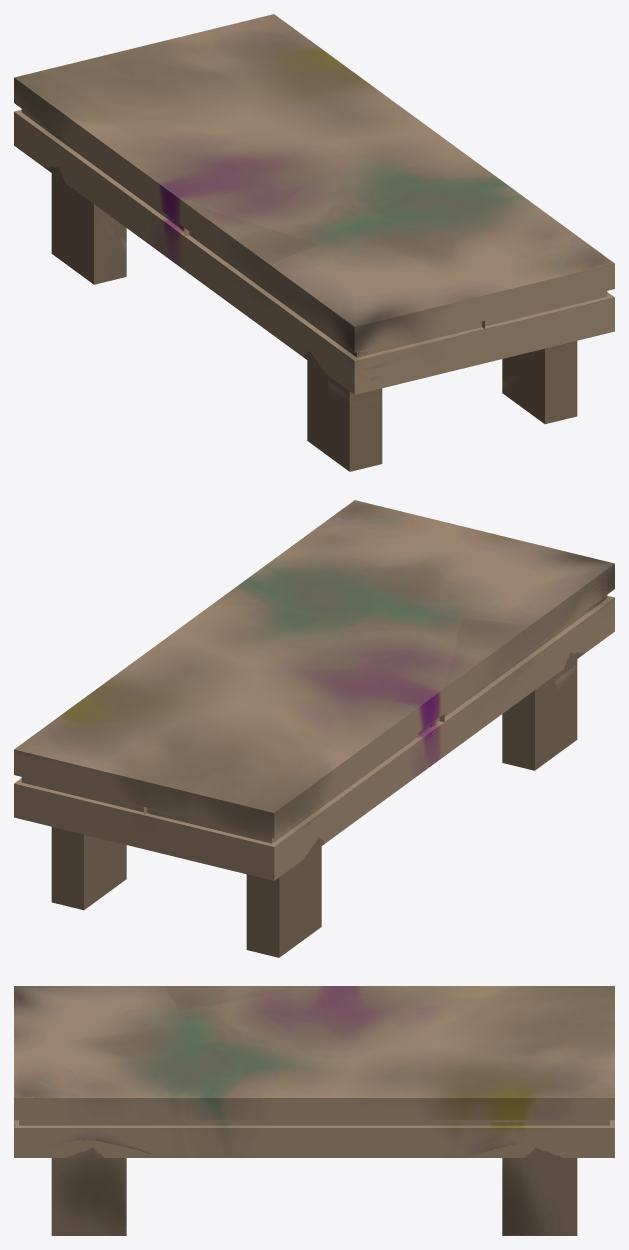
Rendered from CraftingTable.fbx.
The picture shows the model from 3 angles, top to bottom: view 1: azimuth 30°, elevation 25°; view 2: azimuth 150°, elevation 25°; view 3: azimuth 270°, elevation 25°; orthographic projection. The views are drawn at different scales.
Parts seen in each view (by area): view 1: CraftTable; view 2: CraftTable; view 3: CraftTable.
Boxes of the visible parts, x1,y1,x2,y2 form: CraftTable: (14,14,614,471); CraftTable: (14,500,614,957); CraftTable: (14,986,614,1235).
Bounding box in the file's own units: 2.8 × 6.36 × 1.69.
